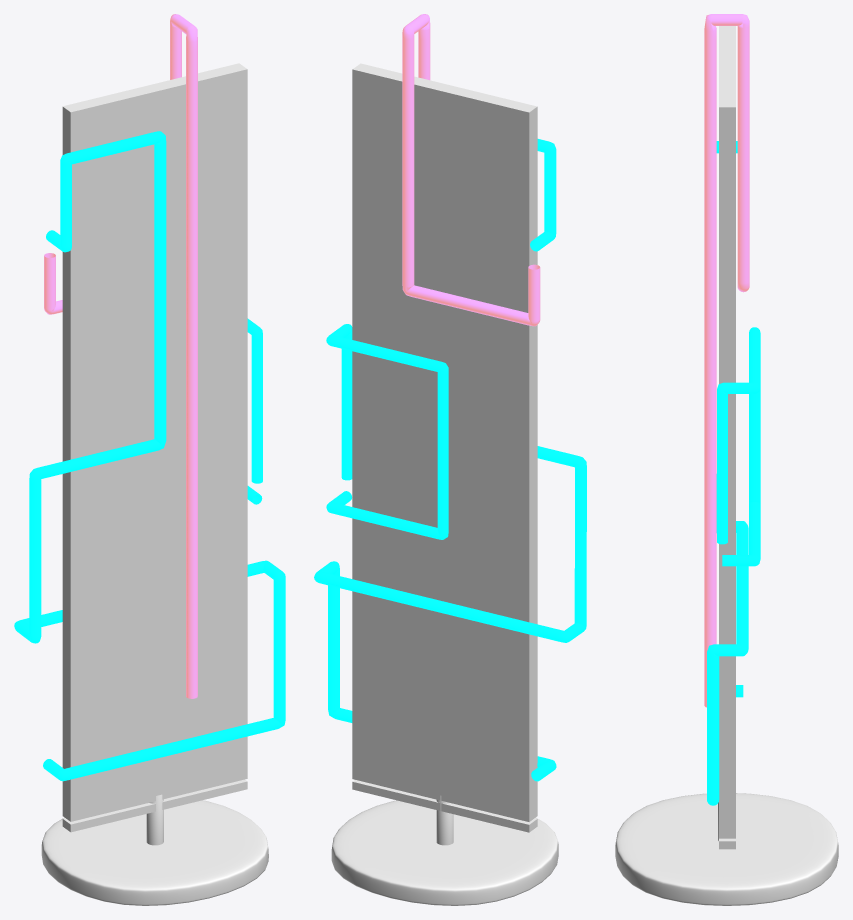
The picture shows the model from 3 angles, left to right: view 1: azimuth 30°, elevation 25°; view 2: azimuth 150°, elevation 25°; view 3: azimuth 270°, elevation 25°; orthographic projection. The views are drawn at different scales.
Parts seen in each view (by area): view 1: Cube, Cube.001, NurbsCurve, NurbsCurve.001, NurbsCurve.002, Cube.003, Cylinder; view 2: Cube, Cube.001, NurbsCurve, NurbsCurve.002, NurbsCurve.001, Cube.003, Cylinder; view 3: Cube.001, NurbsCurve.001, Cube, NurbsCurve.002, NurbsCurve.
Part boxes in pixels (x1,y1,x2,y2): Cube: (62,63,247,821); Cube.001: (41,800,268,905); NurbsCurve: (14,131,285,781); NurbsCurve.001: (44,14,197,698); NurbsCurve.002: (247,318,262,504); Cube.003: (62,779,247,832); Cylinder: (146,794,163,845); Cube: (352,63,537,821); Cube.001: (331,800,558,905); NurbsCurve: (314,139,586,781); NurbsCurve.002: (326,324,448,539); NurbsCurve.001: (402,14,540,326); Cube.003: (352,780,537,832); Cylinder: (436,795,453,845); Cube.001: (615,793,838,905); NurbsCurve.001: (704,14,749,707); Cube: (719,26,735,838); NurbsCurve.002: (717,327,760,566); NurbsCurve: (707,141,748,805).
Size of the model in its own units: 3.01 by 9.34 by 2.21.
